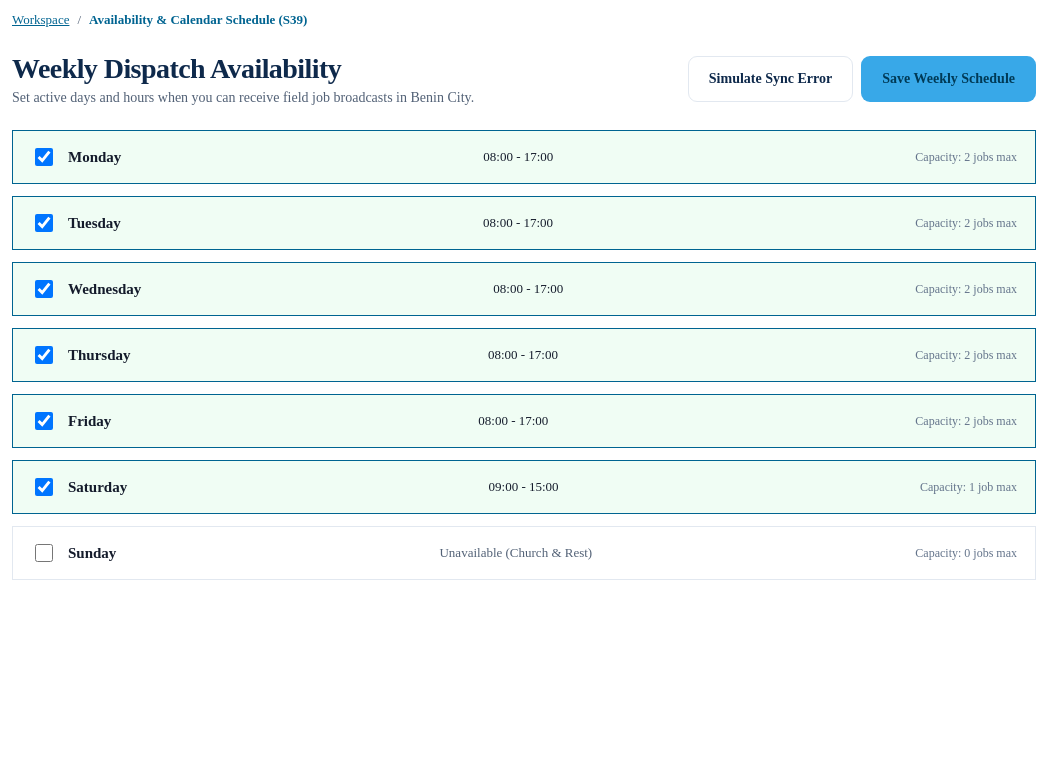
Test: Artisan Dashboard, Orders, Earnings & Schedule (S36, S37, S38, S39) › renders S39 Artisan Availability and toggles day active states
Expected: the heading "Weekly Dispatch Availability" is shown, [12,53,341,84]
Expected: the text "Monday" is shown, [68,149,121,166]
// Toggle Friday off
What coordinates should you click on to do the following:
click the checkbox labelled "Friday"
I would click on:
 (44, 421)
Its box is [35,412,53,430].
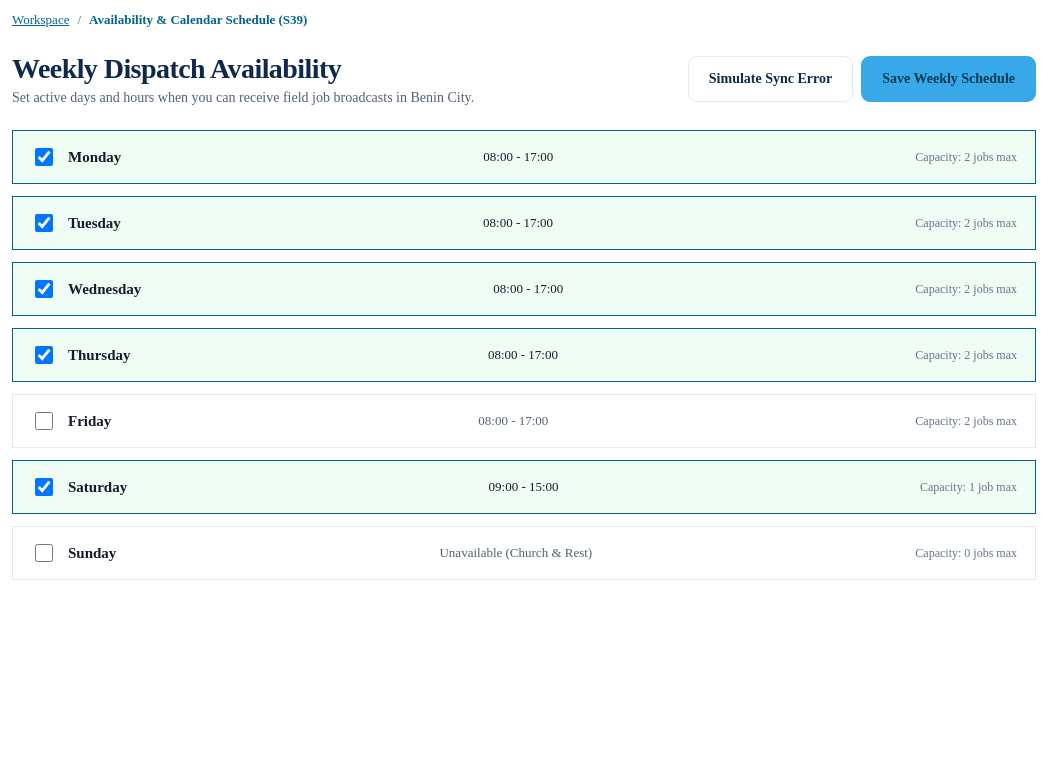
// Save schedule
What coordinates should you click on to do the following:
click the button "Save Weekly Schedule"
I would click on:
 (949, 79)
Its box is [861,56,1036,102].
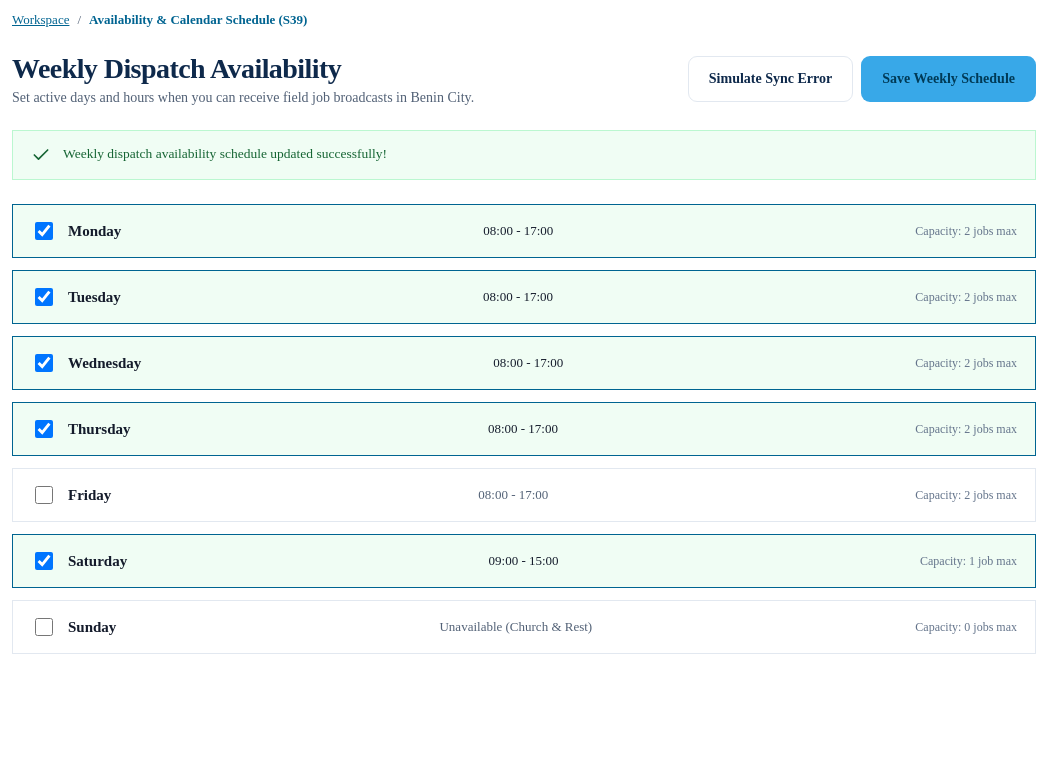
Expected: the text "Weekly dispatch availability schedule updated successfully!" is shown, [63,145,387,164]
